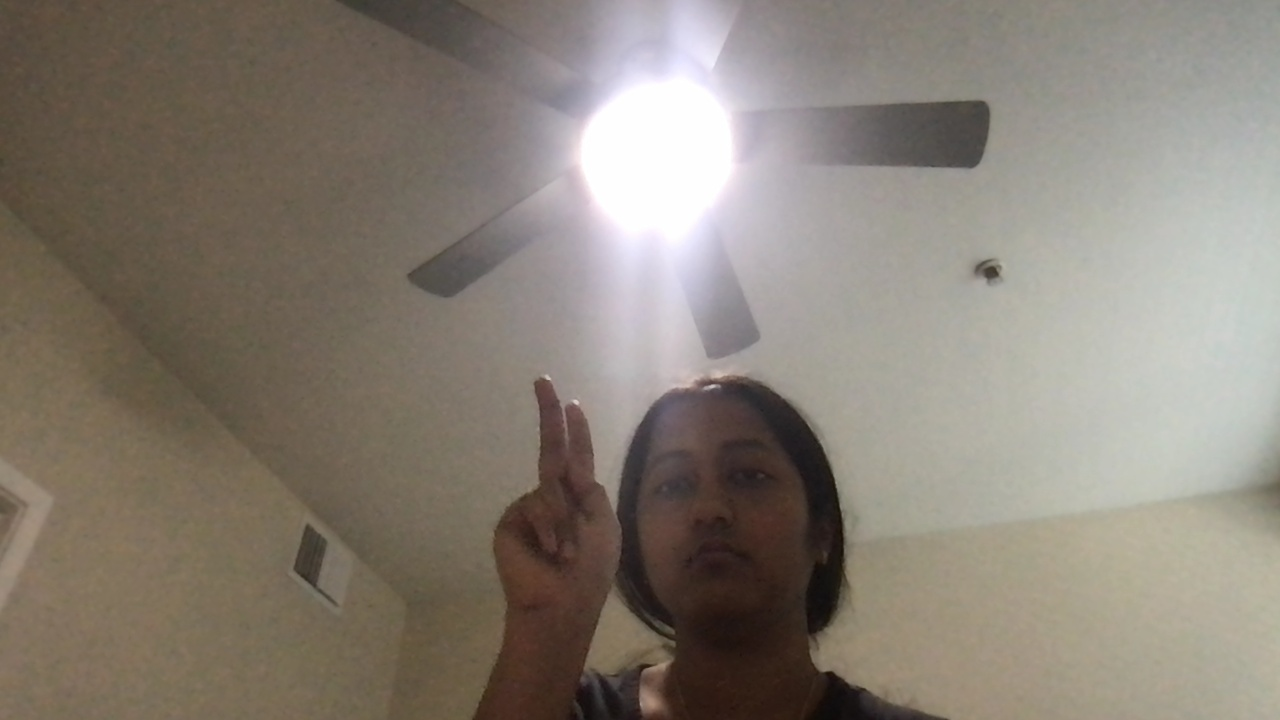k: (507, 373, 630, 638)
